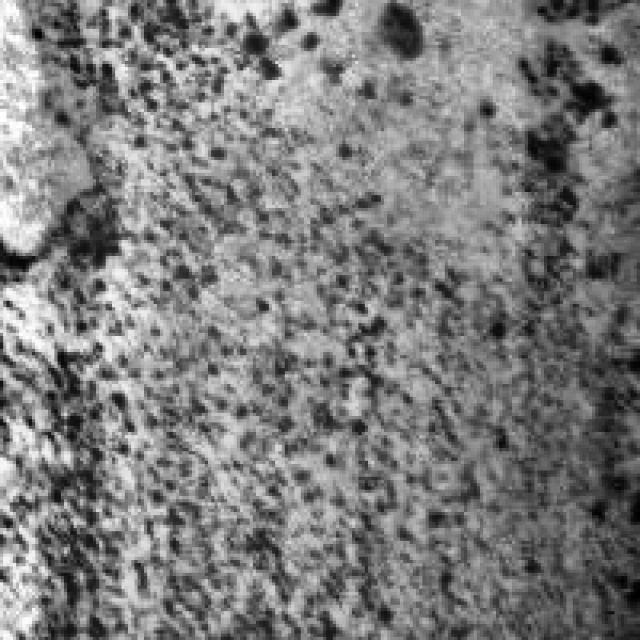Rolled_in_Scale: (240, 22, 618, 624), (0, 3, 278, 627)
